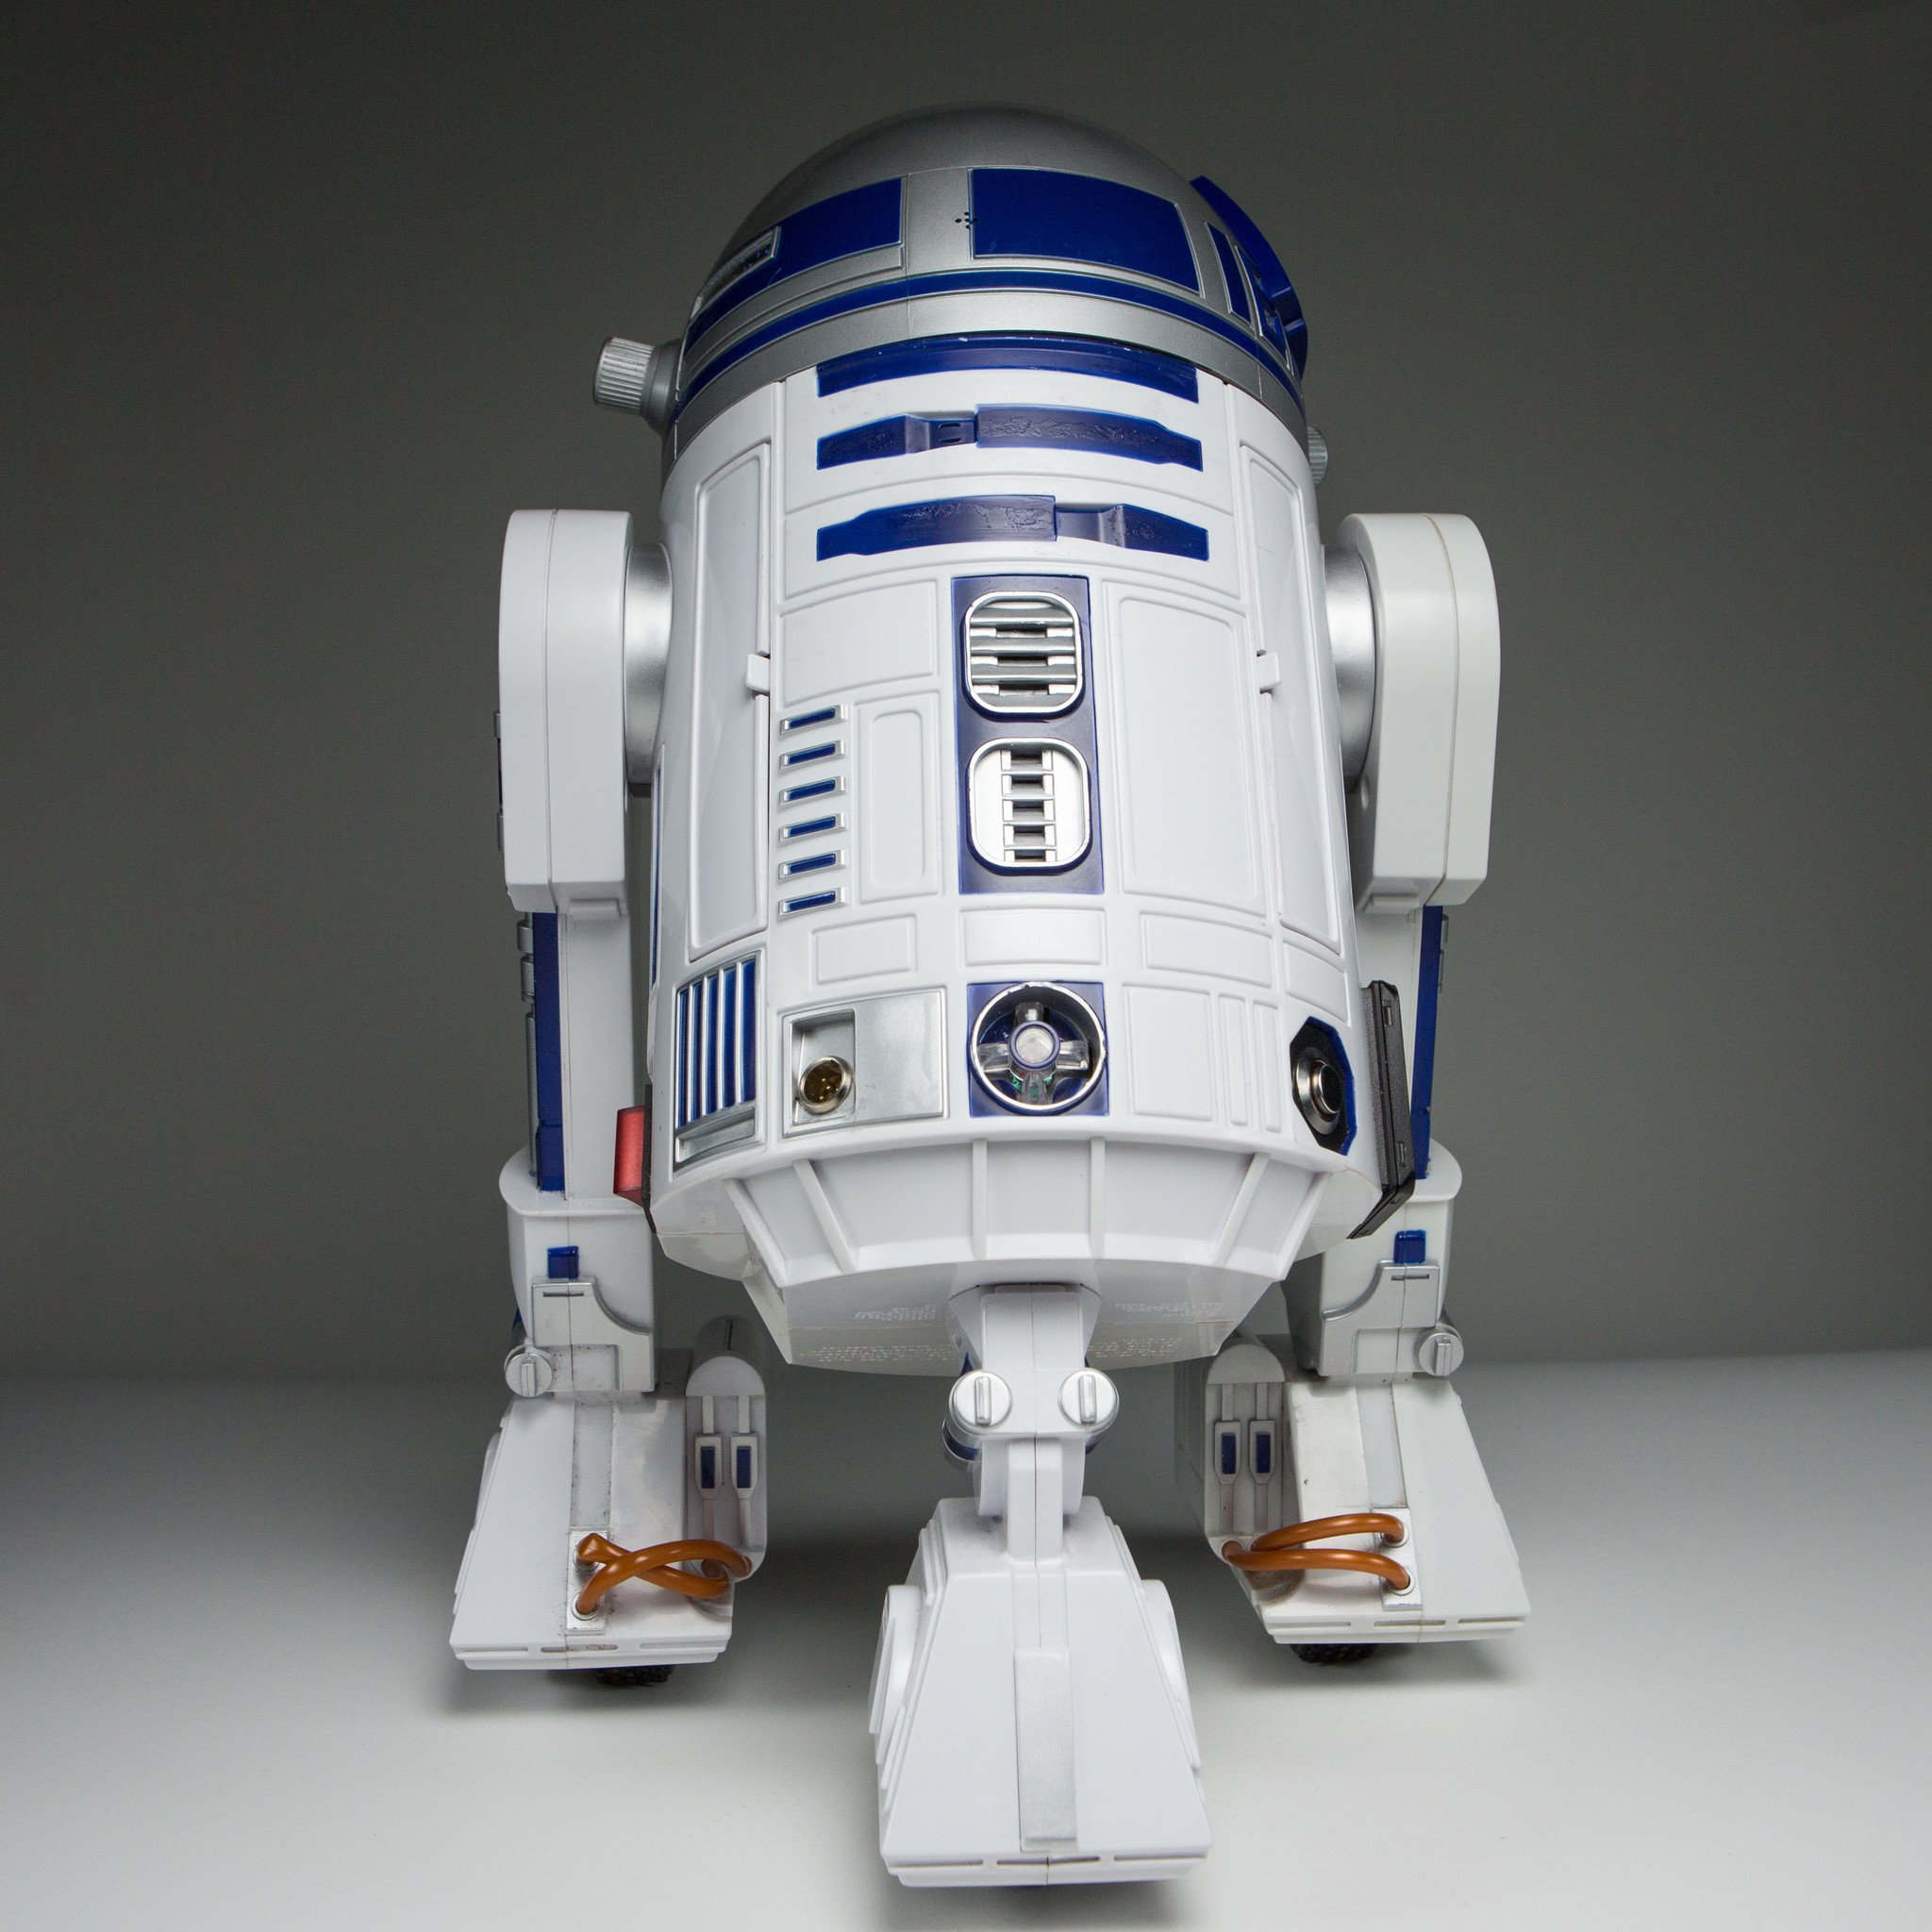r2d2: (453, 103, 1541, 1886)
